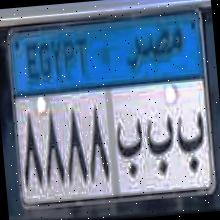8: (38, 104, 68, 193), (60, 103, 89, 191), (82, 101, 112, 185), (16, 109, 45, 192)
baa: (175, 109, 209, 180), (142, 115, 178, 182), (114, 115, 146, 180)
